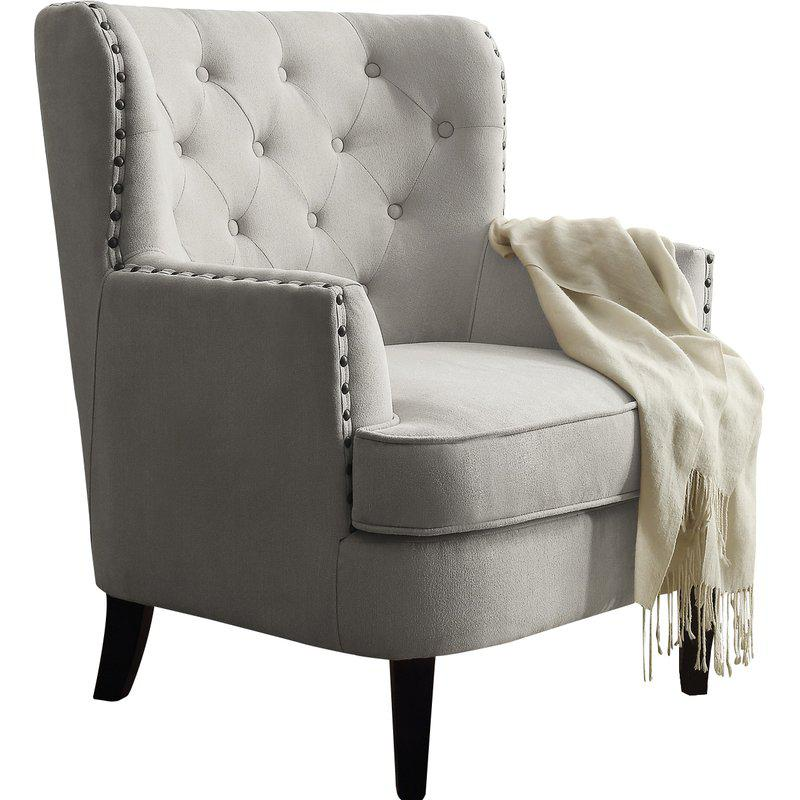chair: (21, 2, 774, 799)
